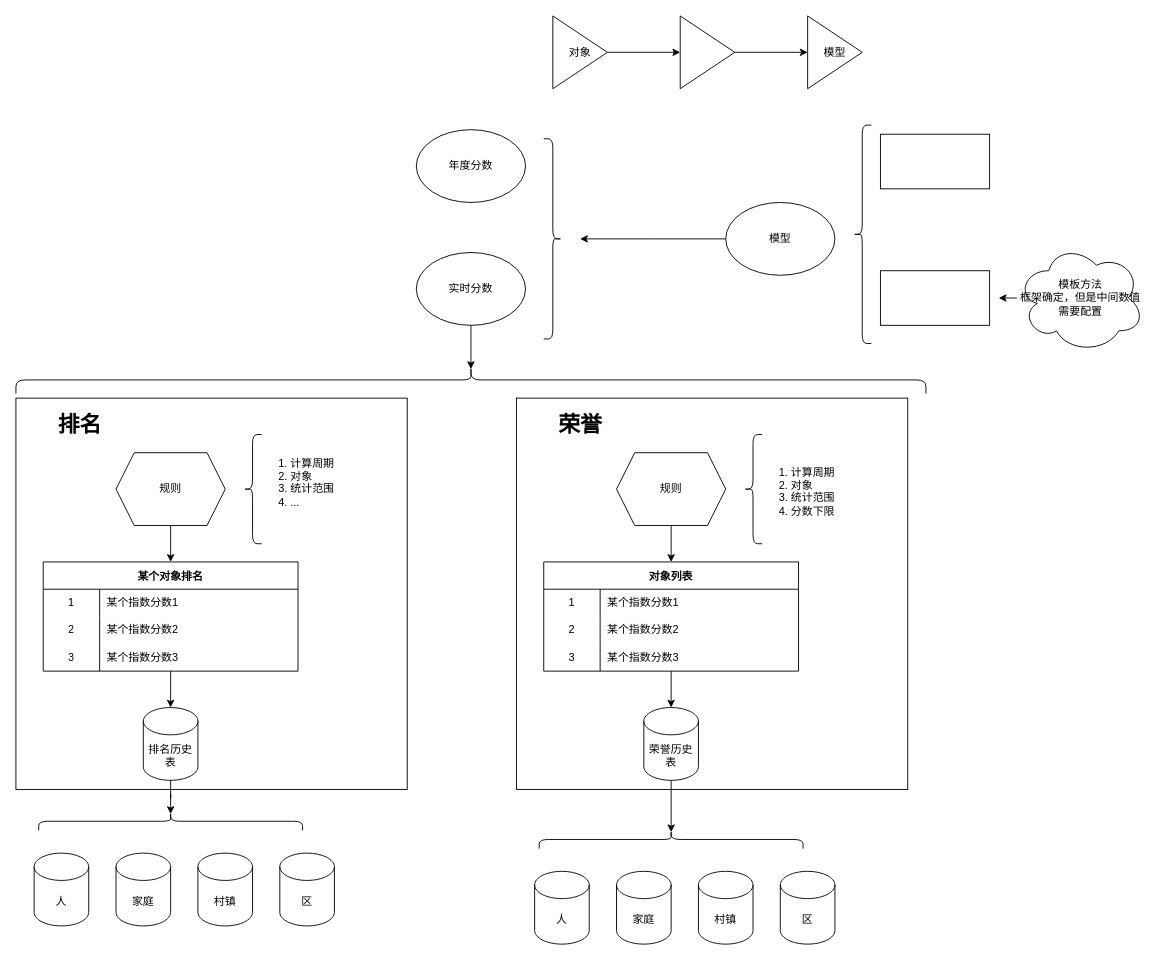
The diagram is 1160 pixels wide and 960 high, and some of its shapes have lost their labels. The centre of each missing label's shape, as x and y in pixels:
加减分项: the point at 935,297
基准分: the point at 935,161
指数: the point at 707,52
